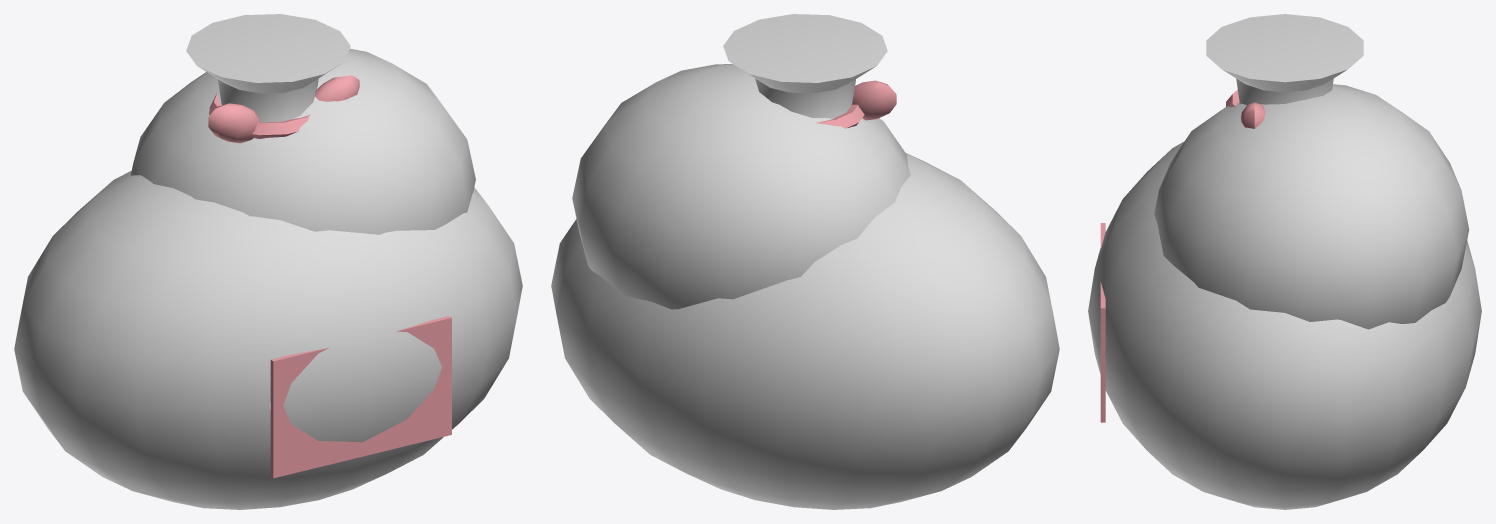
The model's file is stuffing_bag.glb.
The picture shows the model from 3 angles, left to right: view 1: azimuth 30°, elevation 25°; view 2: azimuth 150°, elevation 25°; view 3: azimuth 270°, elevation 25°; orthographic projection. The views are drawn at different scales.
Parts seen in each view (by area): view 1: stuffing_bag; view 2: stuffing_bag; view 3: stuffing_bag.
Part boxes in pixels (bbox=[...]): stuffing_bag: bbox=[14, 14, 522, 509]; stuffing_bag: bbox=[551, 14, 1059, 509]; stuffing_bag: bbox=[1088, 14, 1481, 509].
Bounding box in the file's own units: 0.21 × 0.189 × 0.156.
